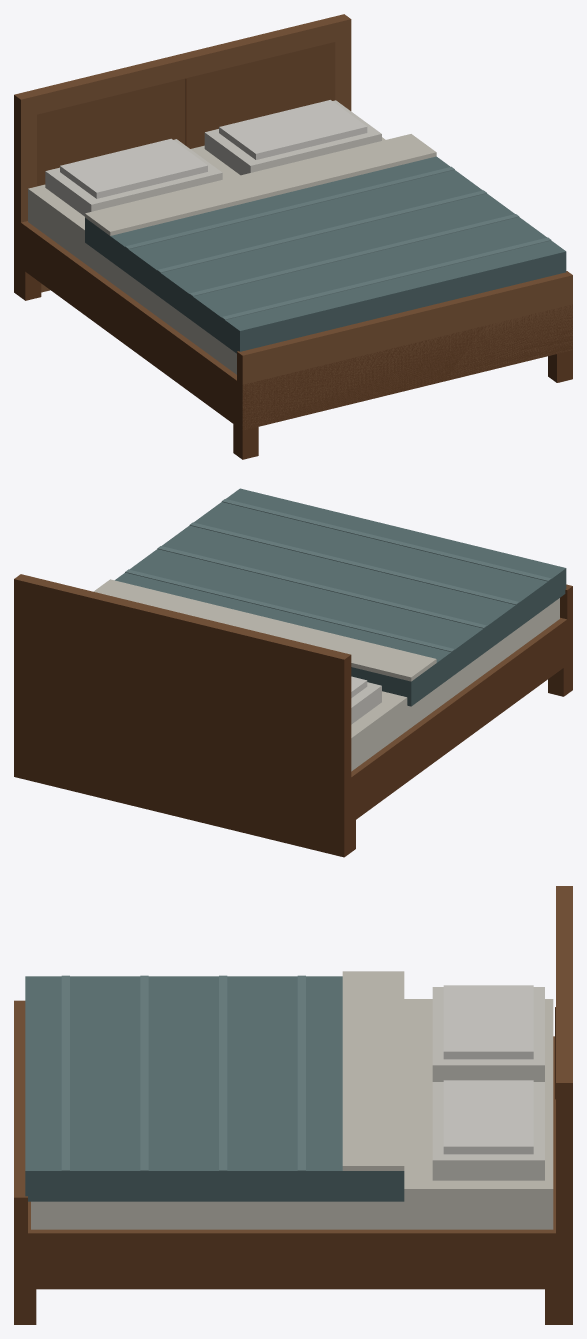
The model's file is double-bed.glb.
3 renders of one model, top to bottom at view 1: azimuth 30°, elevation 25°; view 2: azimuth 150°, elevation 25°; view 3: azimuth 270°, elevation 25°, orthographic. The views are drawn at different scales.
Parts seen in each view (by area): view 1: double-bed; view 2: double-bed; view 3: double-bed.
Boxes of the visible parts, box(x1,y1,x2,y2) form: double-bed: box(14, 14, 572, 459); double-bed: box(14, 488, 572, 857); double-bed: box(14, 886, 572, 1324).
Size of the model in its own units: 1.66 by 0.9499 by 1.99.
